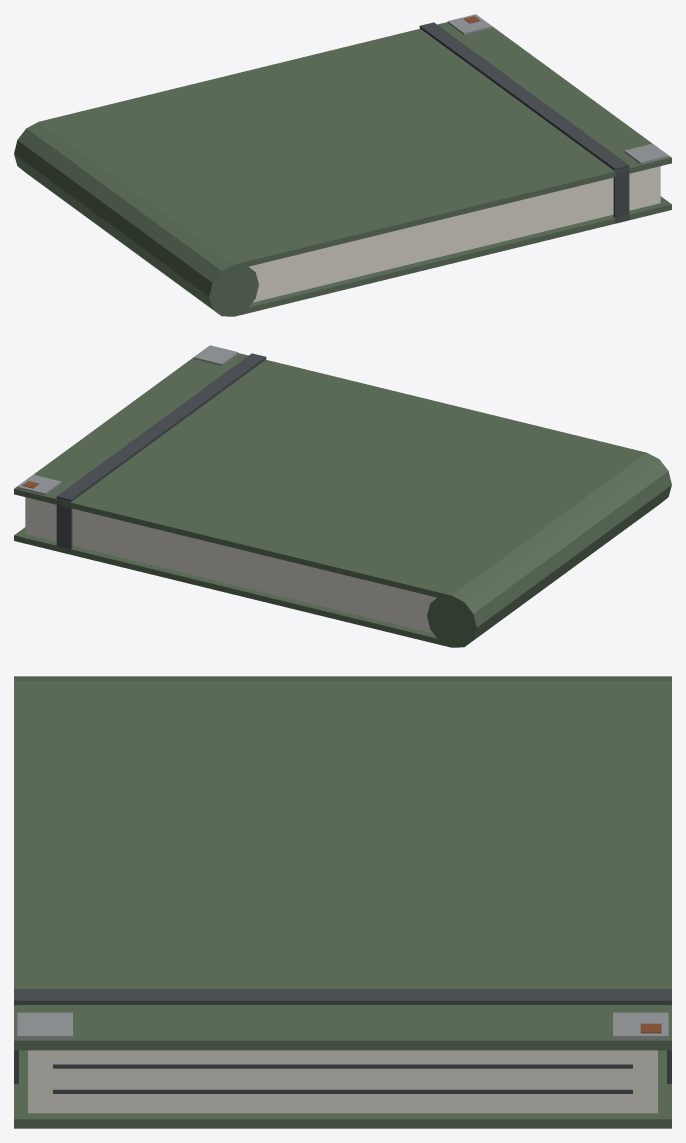
File: maintenance_logbook_woodland.glb
3 views of the same model, one above another, from view 1: azimuth 30°, elevation 25°; view 2: azimuth 150°, elevation 25°; view 3: azimuth 270°, elevation 25° (orthographic). The views are drawn at different scales.
Parts seen in each view (by area): view 1: Logbook_Body; view 2: Logbook_Body; view 3: Logbook_Body.
Part boxes in pixels (bbox=[...]): Logbook_Body: bbox=[14, 14, 671, 316]; Logbook_Body: bbox=[14, 345, 671, 647]; Logbook_Body: bbox=[14, 676, 671, 1128].
Bounding box in the file's own units: 0.26 × 0.0296 × 0.19.
